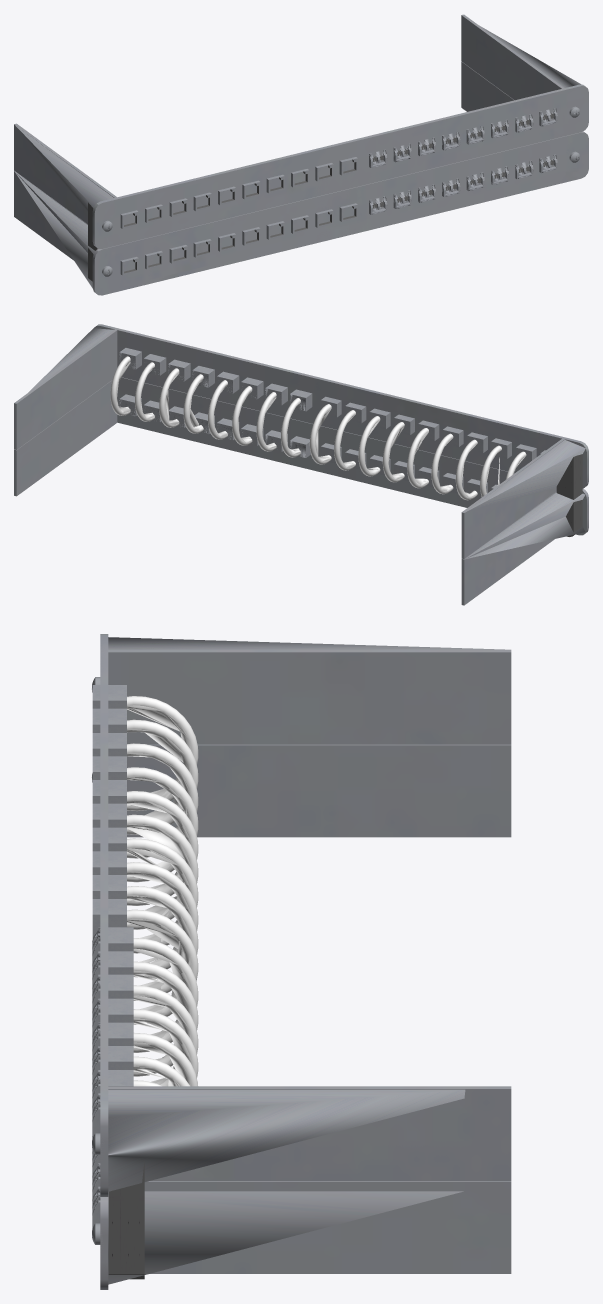
The model's file is PatchPanel.combo.2u.glb.
The picture shows the model from 3 angles, top to bottom: view 1: azimuth 30°, elevation 25°; view 2: azimuth 150°, elevation 25°; view 3: azimuth 270°, elevation 25°; orthographic projection. The views are drawn at different scales.
Visible parts, largest first — view 1: PatchPanel_combo; view 2: PatchPanel_combo; view 3: PatchPanel_combo, SFP Fabric.003, SFP Fabric.004, SFP Fabric.001, RJ45.021, SFP Fabric.006, SFP Fabric.002, SFP Fabric.005.
Part boxes in pixels (x1,y1,x2,y2): PatchPanel_combo: [14, 14, 588, 295]; PatchPanel_combo: [14, 324, 588, 605]; PatchPanel_combo: [92, 634, 511, 1289]; SFP Fabric.003: [92, 974, 133, 1011]; SFP Fabric.004: [92, 998, 133, 1035]; SFP Fabric.001: [92, 927, 133, 964]; RJ45.021: [92, 899, 126, 939]; SFP Fabric.006: [92, 1046, 133, 1082]; SFP Fabric.002: [92, 951, 133, 987]; SFP Fabric.005: [92, 1022, 133, 1058].
Size of what is drawn, in the model's own units: 0.4991 by 0.0893 by 0.1834.
Materials: 5 (4 with a texture image).
